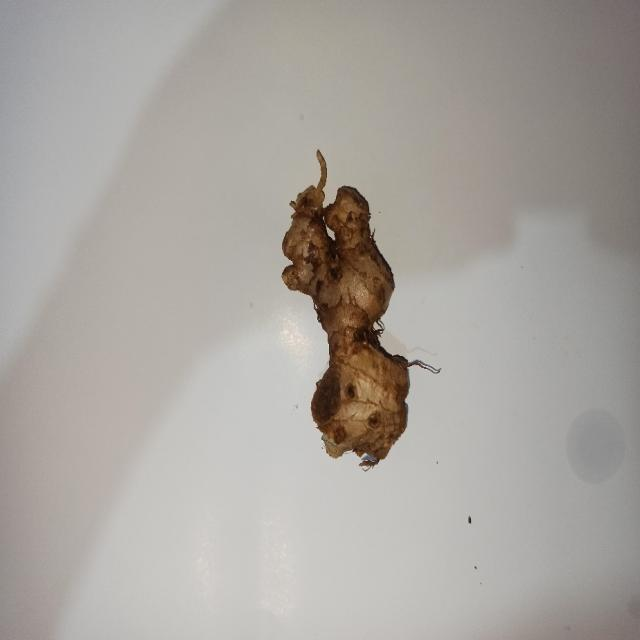ginger: (284, 186, 411, 465)
